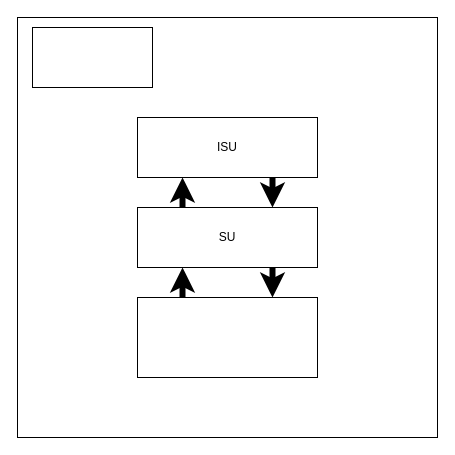
Some shapes in this 455 by 455 pixel diagram are drawn without their labels. Here are the shapes that lost their labels. From the top down, the centre of each, then its label:
point 92,57: I$
point 227,337: DEXU
